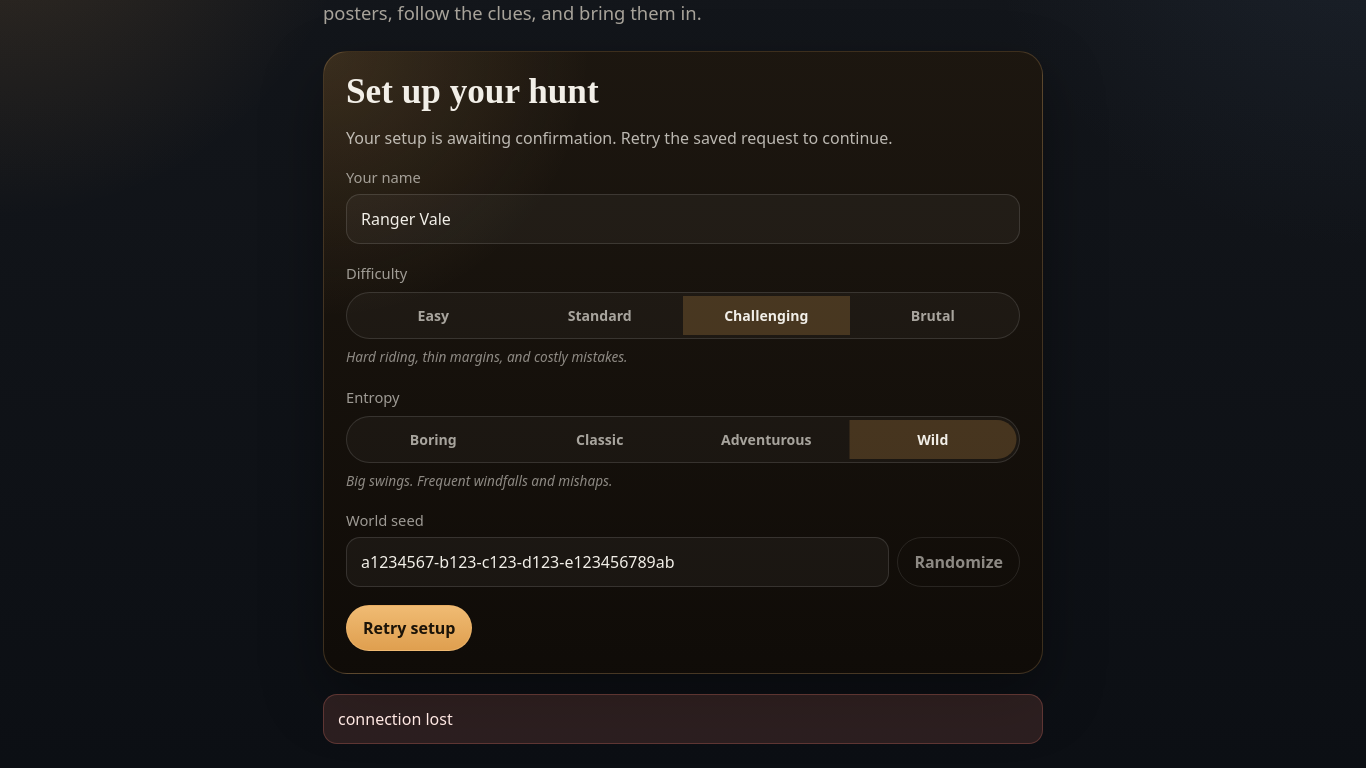
Test: StartFlow › keeps and retries the exact setup operation after an uncertain response
(page scrolled)
Expected: the text "connection lost" is shown, left=323, top=694, right=1043, bottom=744
Expected: the field labelled "Your name" holds "Ranger Vale", left=346, top=194, right=1020, bottom=244
Click the button "Retry setup" at (409, 628), box left=346, top=605, right=472, bottom=651
(page scrolled)
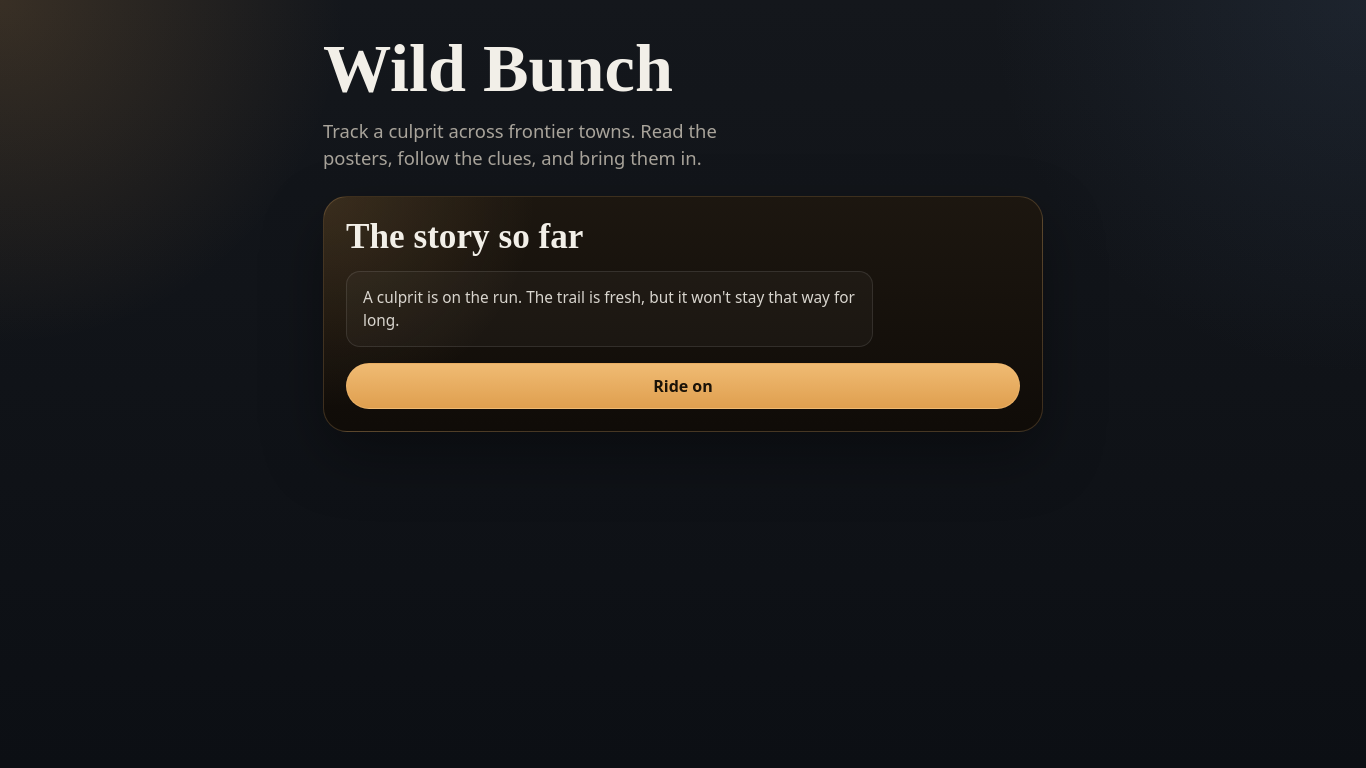
Expected: the heading "The story so far" is shown, left=346, top=217, right=584, bottom=256
